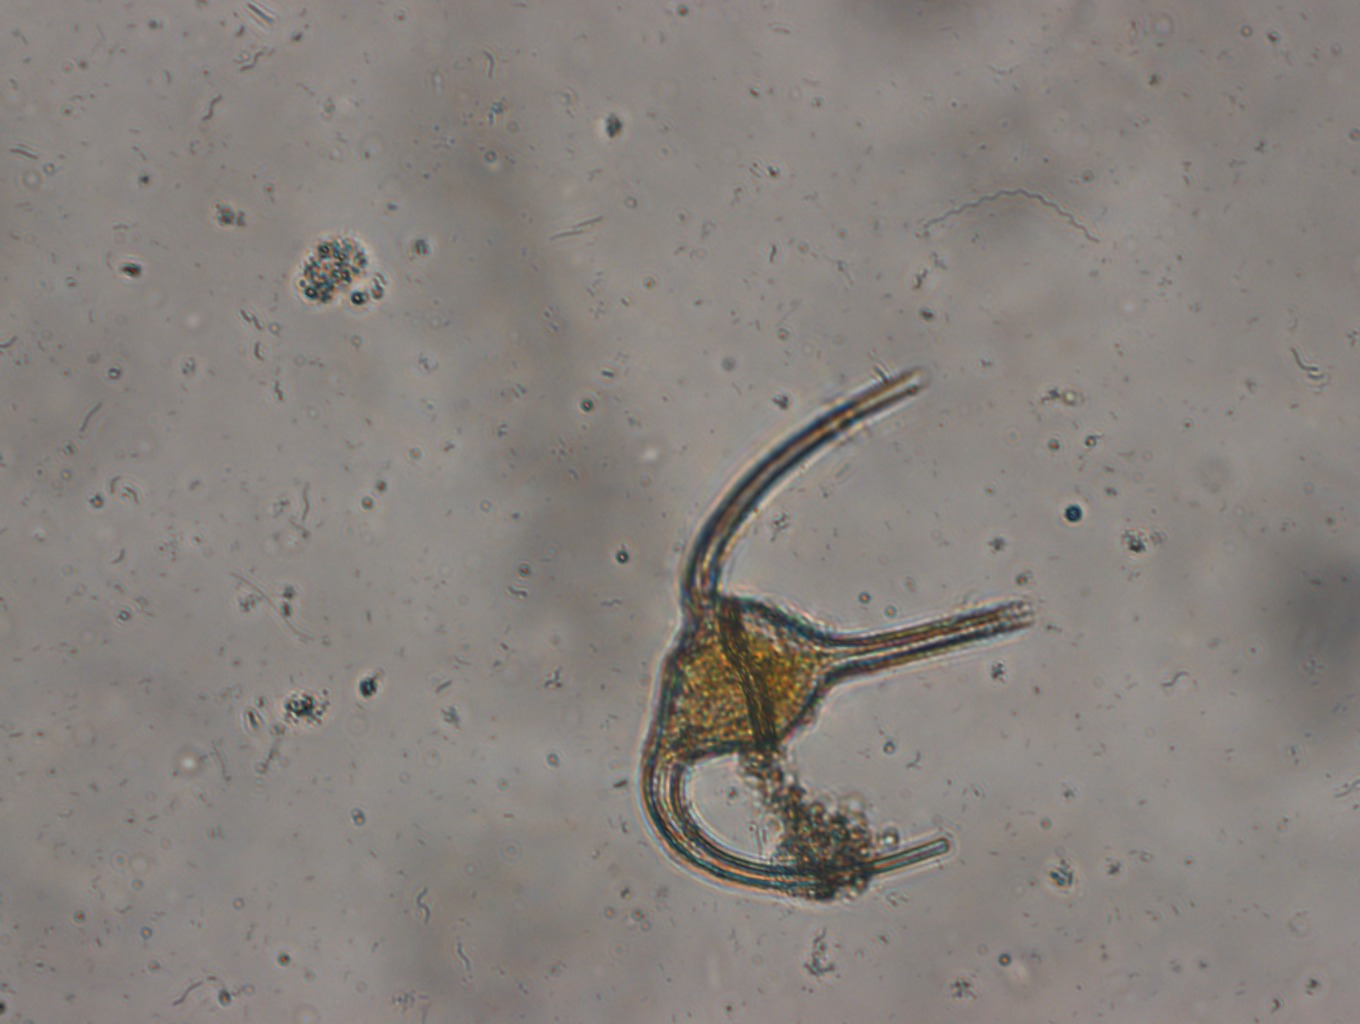ceratium trichoceros: (633, 361, 1044, 902)
